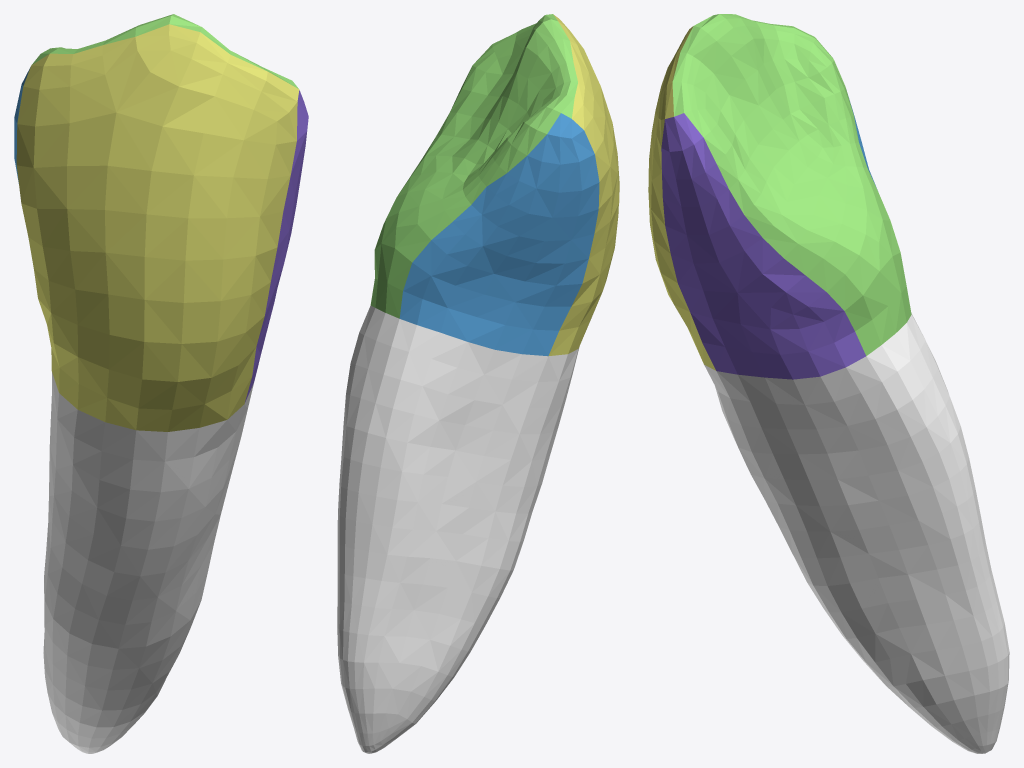
Rendered from tooth_43_annotated.glb.
3 views of the same model, side by side, from view 1: azimuth 30°, elevation 25°; view 2: azimuth 150°, elevation 25°; view 3: azimuth 270°, elevation 25° (orthographic). The views are drawn at different scales.
Parts seen in each view (by area): view 1: FDI_43; view 2: FDI_43; view 3: FDI_43.
Part boxes in pixels (x1,y1,x2,y2): FDI_43: (14,14,308,753); FDI_43: (337,14,619,753); FDI_43: (648,14,1009,753).
Size of the model in its own units: 0.00667 by 0.0212 by 0.00978.
